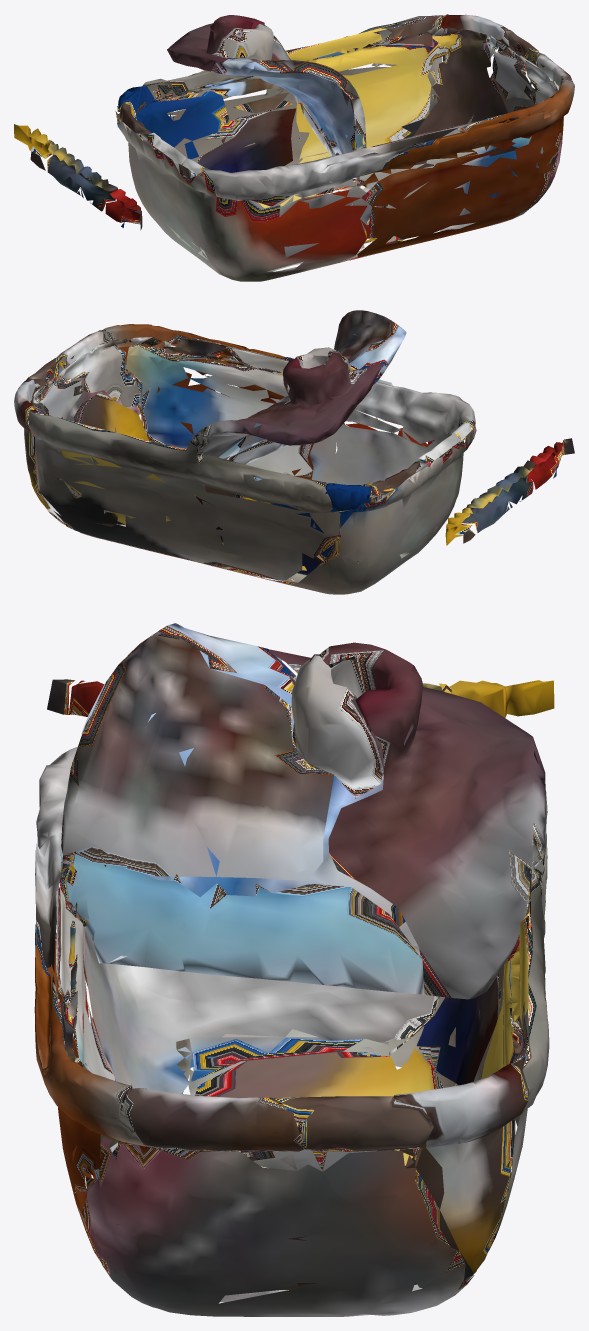
Rendered from metall-fischdose.glb.
3 views of the same model, one above another, from view 1: azimuth 30°, elevation 25°; view 2: azimuth 150°, elevation 25°; view 3: azimuth 270°, elevation 25° (orthographic). The views are drawn at different scales.
Visible parts, largest first — view 1: metall-fischdose; view 2: metall-fischdose; view 3: metall-fischdose.
Boxes of the visible parts, bbox=[...] form: metall-fischdose: bbox=[14, 14, 574, 281]; metall-fischdose: bbox=[14, 310, 574, 594]; metall-fischdose: bbox=[34, 623, 554, 1316].
Bounding box in the file's own units: 0.1632 × 0.0745 × 0.0795.
Materials: 1 (1 with a texture image).
